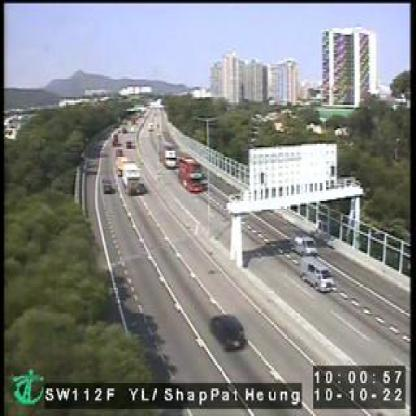Car: (212, 314, 246, 352), (302, 260, 333, 294), (293, 232, 317, 255), (103, 179, 114, 193)
Truck: (179, 154, 206, 194), (124, 162, 143, 194), (162, 142, 178, 166)
